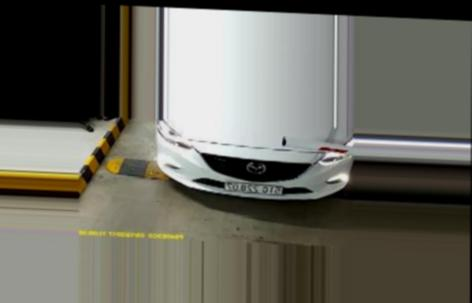License_Plate: (220, 178, 286, 200)
